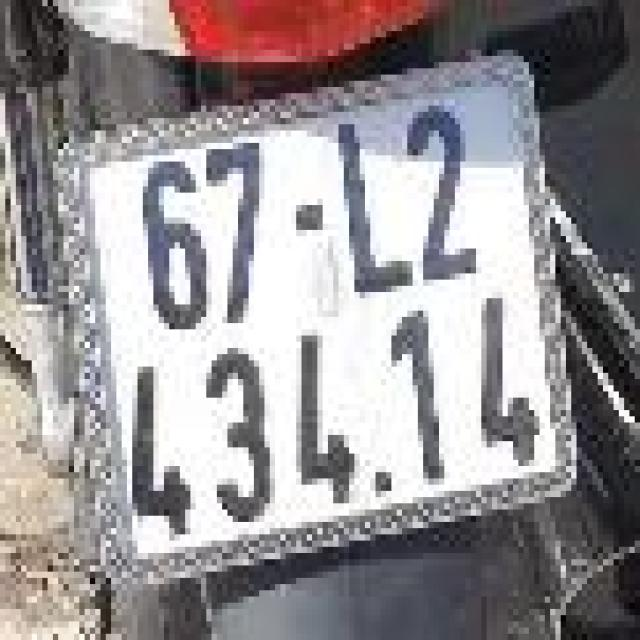1: (386, 301, 450, 488)
2: (405, 84, 489, 283)
3: (198, 348, 283, 528)
4: (119, 340, 201, 552), (466, 292, 550, 472), (287, 320, 358, 514)
6: (133, 148, 217, 340)
7: (195, 124, 274, 333)
L: (328, 112, 412, 292)
